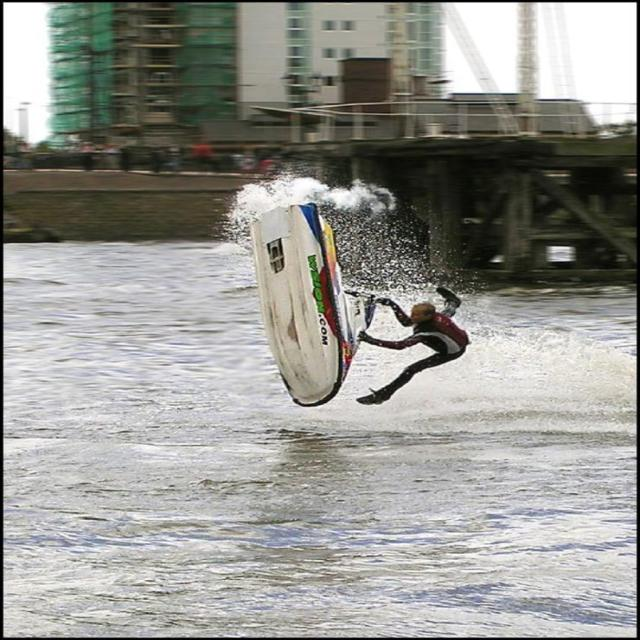Boat: (247, 206, 379, 409)
